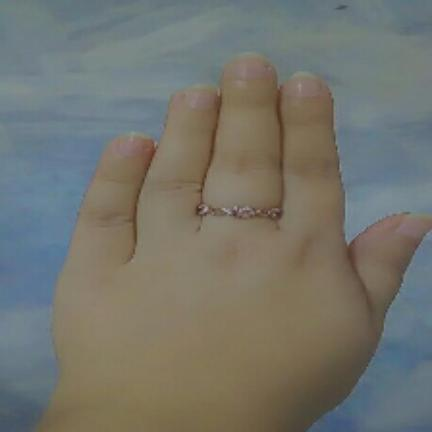Nail: (285, 72, 322, 97), (396, 213, 432, 238), (233, 52, 266, 78), (117, 132, 150, 157), (185, 84, 216, 108)
